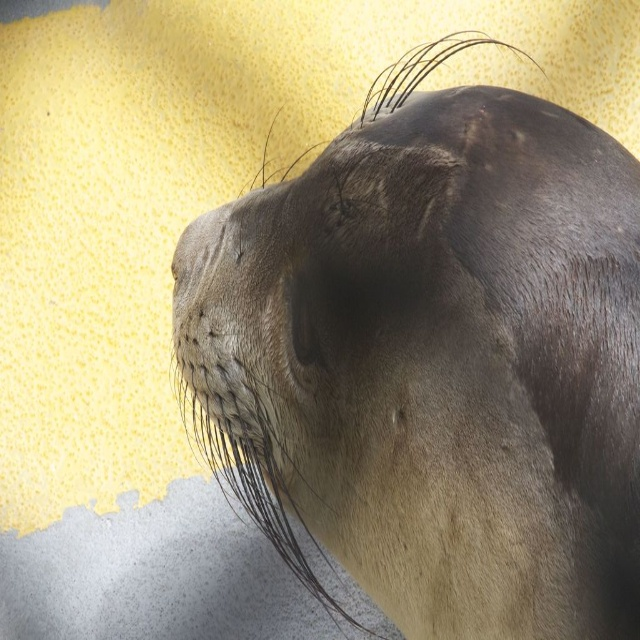Sea lion: (163, 31, 640, 639)
